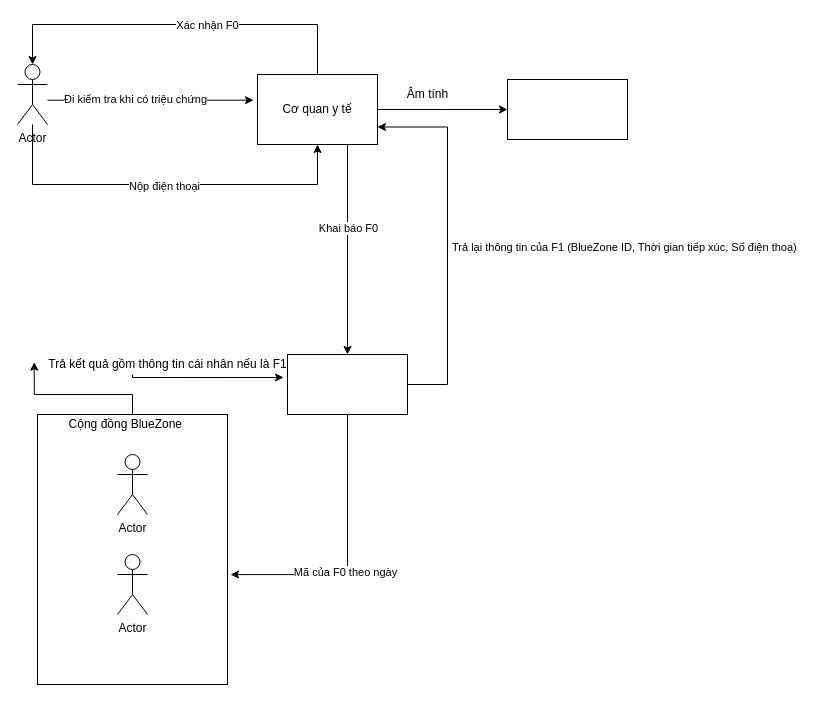
This 815x702 diagram has some shape labels left out. Each missing label, with the box of its shape:
BlueZone: (286, 354, 408, 414)
Không cần làm gì bây giờ: (506, 78, 628, 140)
